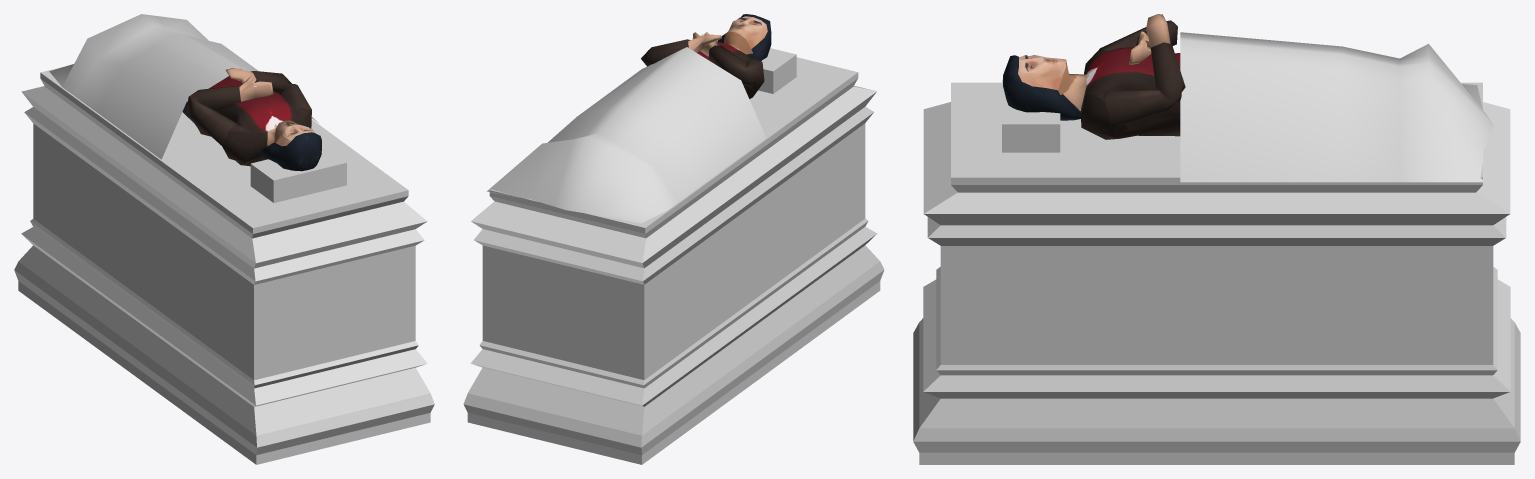
File: Haudut_Main.fbx
The picture shows the model from 3 angles, left to right: view 1: azimuth 30°, elevation 25°; view 2: azimuth 150°, elevation 25°; view 3: azimuth 270°, elevation 25°; orthographic projection. The views are drawn at different scales.
Visible parts, largest first — view 1: pää_hauta, Peitto, Cube, Tyyny; view 2: pää_hauta, Peitto, Cube, Tyyny; view 3: pää_hauta, Peitto, Cube, Tyyny.
Part boxes in pixels (box(x1,y1,x2,y2)): pää_hauta: box(14, 66, 434, 464); Peitto: box(49, 14, 318, 159); Cube: box(182, 68, 321, 171); Tyyny: box(250, 145, 346, 202); pää_hauta: box(463, 34, 884, 464); Peitto: box(487, 47, 765, 223); Cube: box(641, 14, 771, 98); Tyyny: box(717, 41, 796, 93); pää_hauta: box(913, 82, 1520, 464); Peitto: box(1180, 32, 1493, 182); Cube: box(1003, 14, 1185, 139); Tyyny: box(1002, 79, 1060, 152).
Bounding box in the file's own units: 169 × 281 × 401.
